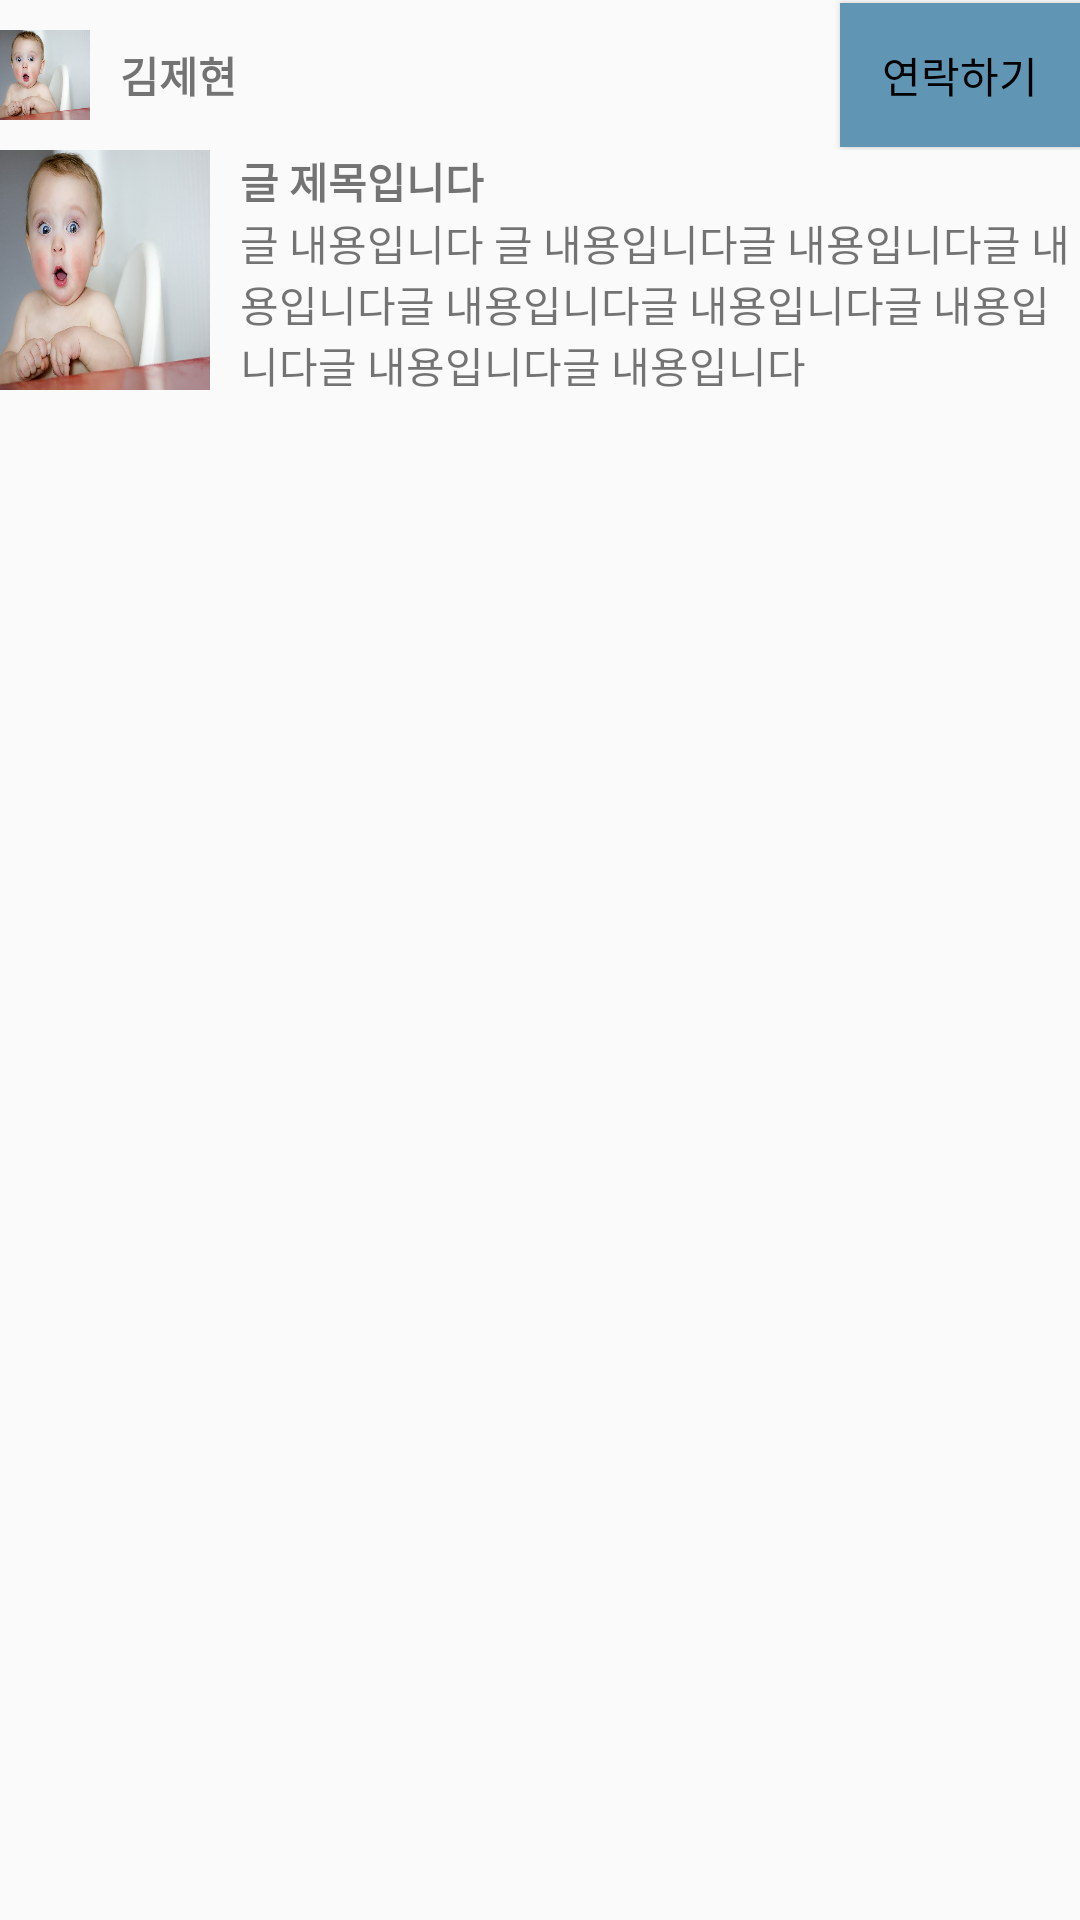

Where to tap for icons on this 1080*1920 app screen, as [x,y]:
baby: [45,75], [105,270]
